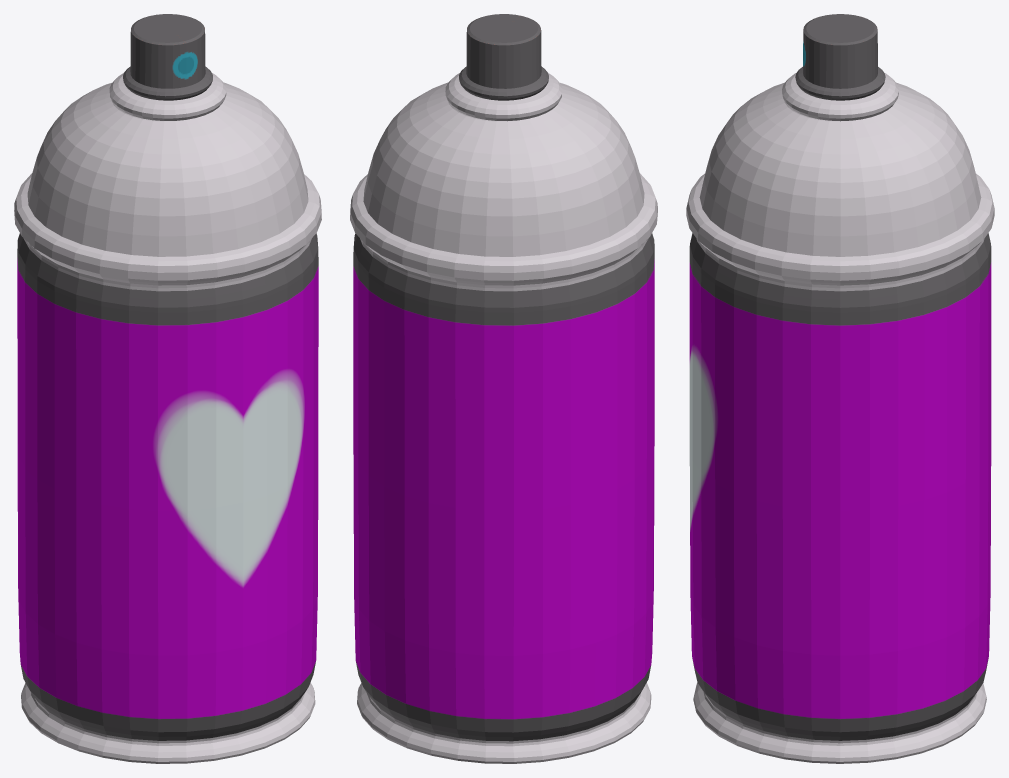
Rendered from spraypaint.fbx.
The picture shows the model from 3 angles, left to right: view 1: azimuth 30°, elevation 25°; view 2: azimuth 150°, elevation 25°; view 3: azimuth 270°, elevation 25°; orthographic projection.
Visible parts, largest first — view 1: Cylinder; view 2: Cylinder; view 3: Cylinder.
Boxes of the visible parts, left/top/right/bottom form: Cylinder: left=14, top=14, right=321, bottom=763; Cylinder: left=350, top=14, right=657, bottom=763; Cylinder: left=686, top=14, right=994, bottom=763.
Bounding box in the file's own units: 21.14 × 51.05 × 21.14.
